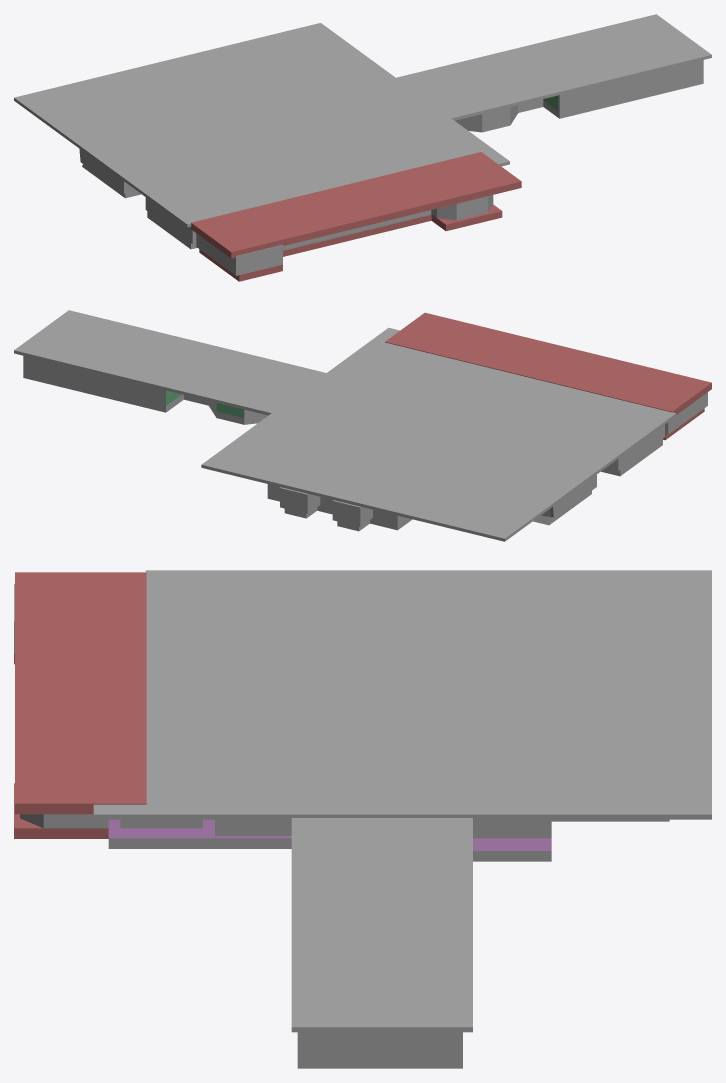
File: Level_final3.fbx
The picture shows the model from 3 angles, top to bottom: view 1: azimuth 30°, elevation 25°; view 2: azimuth 150°, elevation 25°; view 3: azimuth 270°, elevation 25°; orthographic projection. The views are drawn at different scales.
Visible parts, largest first — view 1: pCube3, pCube4, pCube1, pCube2, polySurface5, polySurface93, polySurface24, polySurface75, polySurface96, polySurface63, polySurface86, polySurface60 (+4 smaller); view 2: pCube3, pCube4, pCube1, pCube2, polySurface5, polySurface79, polySurface24, polySurface70, polySurface60, polySurface92, polySurface93, polySurface28 (+2 smaller); view 3: pCube3, pCube4, pCube1, pCube2, polySurface5, polySurface61, polySurface97, polySurface99, polySurface24, polySurface101, polySurface86, polySurface96.
Part boxes in pixels (bbox=[...]): pCube3: bbox=[14, 23, 509, 227]; pCube4: bbox=[191, 152, 521, 258]; pCube1: bbox=[506, 14, 711, 94]; pCube2: bbox=[396, 51, 561, 120]; polySurface5: bbox=[543, 60, 703, 112]; polySurface93: bbox=[196, 233, 282, 275]; polySurface24: bbox=[543, 77, 703, 118]; polySurface75: bbox=[283, 214, 431, 256]; polySurface96: bbox=[431, 195, 493, 220]; polySurface63: bbox=[283, 210, 431, 250]; polySurface86: bbox=[431, 204, 502, 231]; polySurface60: bbox=[145, 197, 196, 243]; pCube3: bbox=[201, 327, 676, 541]; pCube4: bbox=[385, 312, 711, 414]; pCube1: bbox=[14, 310, 216, 389]; pCube2: bbox=[162, 346, 325, 415]; polySurface5: bbox=[23, 355, 181, 405]; polySurface79: bbox=[270, 485, 394, 526]; polySurface24: bbox=[23, 371, 183, 412]; polySurface70: bbox=[267, 492, 412, 531]; polySurface60: bbox=[606, 425, 664, 471]; polySurface92: bbox=[541, 474, 596, 518]; polySurface93: bbox=[665, 392, 707, 434]; polySurface28: bbox=[184, 395, 267, 424]; pCube3: bbox=[93, 570, 711, 819]; pCube4: bbox=[15, 572, 146, 814]; pCube1: bbox=[291, 907, 472, 1032]; pCube2: bbox=[291, 818, 472, 907]; polySurface5: bbox=[297, 1032, 462, 1057]; polySurface61: bbox=[108, 819, 291, 848]; polySurface97: bbox=[120, 819, 291, 835]; polySurface99: bbox=[473, 838, 551, 861]; polySurface24: bbox=[297, 1058, 462, 1068]; polySurface101: bbox=[473, 819, 551, 838]; polySurface86: bbox=[14, 783, 108, 838]; polySurface96: bbox=[20, 814, 108, 828].
Bounding box in the file's own units: 90.88 × 4.76 × 59.07.
